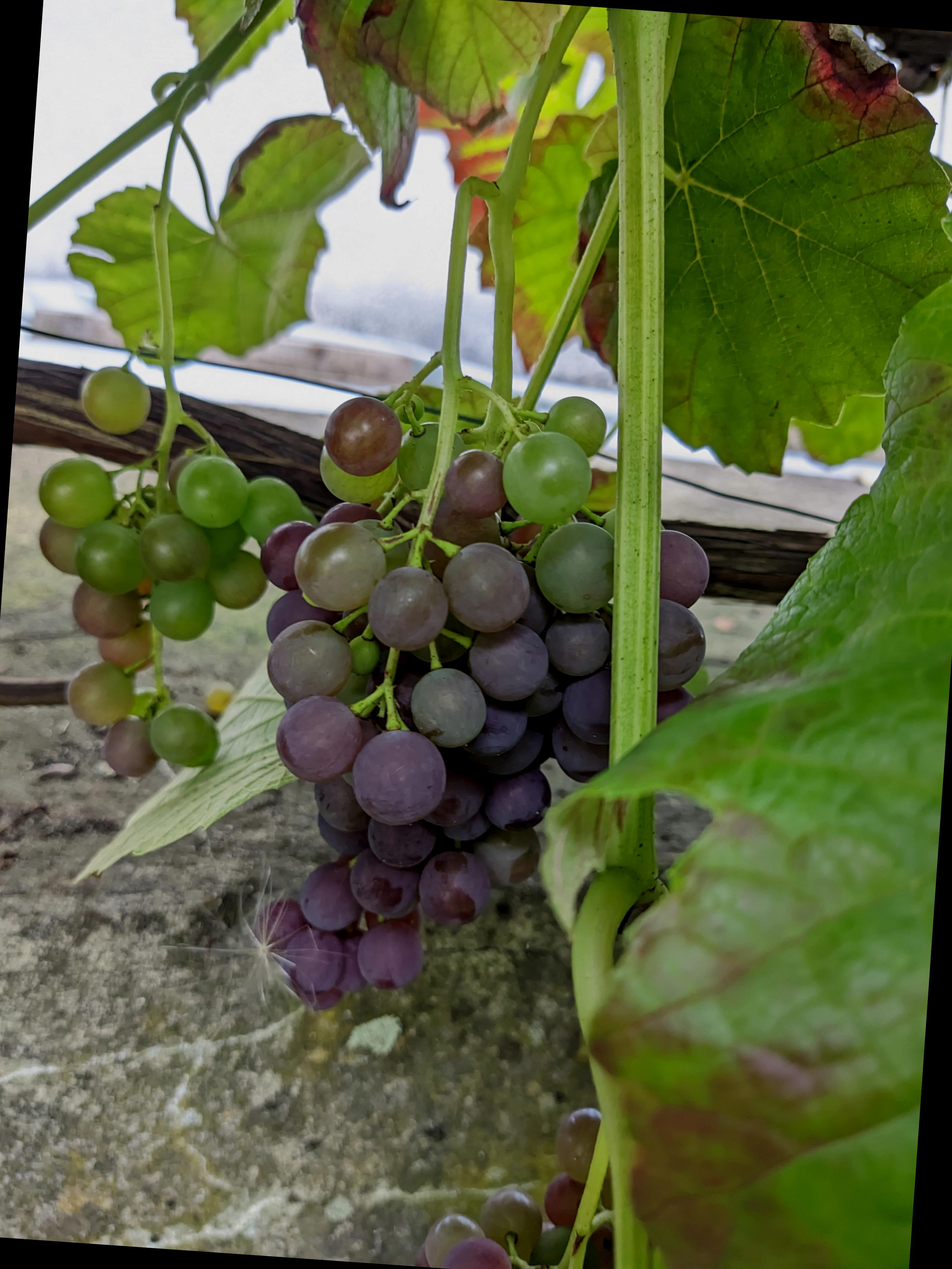Grape Unripe: (270, 344, 770, 1008), (62, 330, 368, 759), (457, 1068, 646, 1248)
